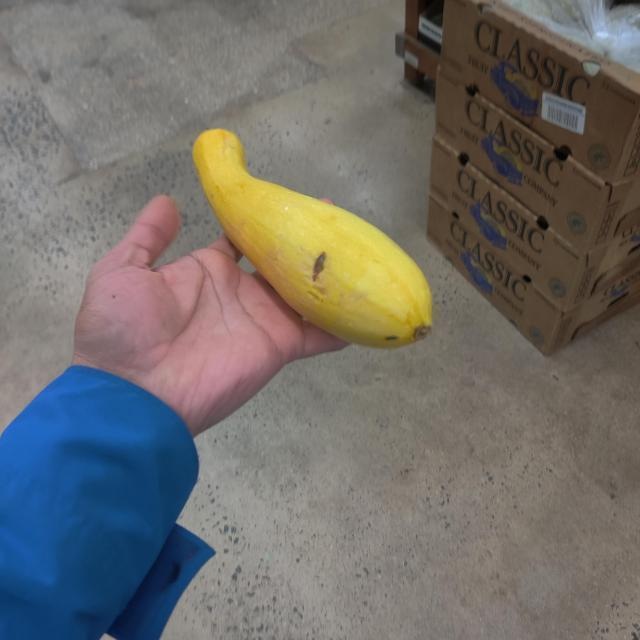Squash: (180, 124, 454, 358)
